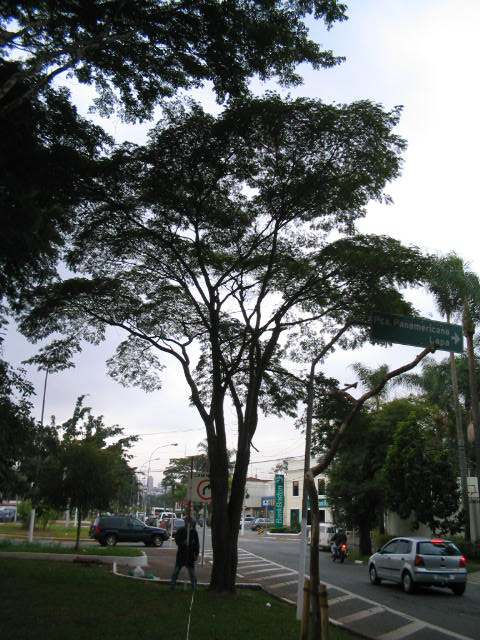crown: (28, 96, 432, 420)
stem: (201, 516, 253, 590)
stick: (179, 456, 198, 590)
tree: (25, 95, 434, 591)
